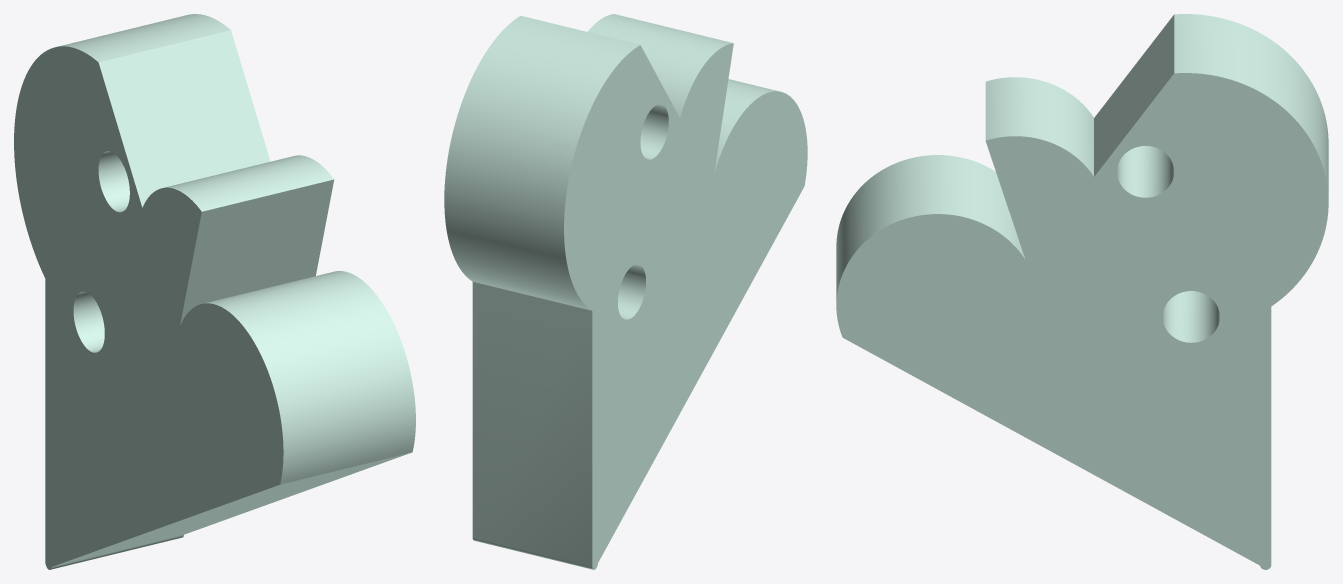
The picture shows the model from 3 angles, left to right: view 1: azimuth 30°, elevation 25°; view 2: azimuth 150°, elevation 25°; view 3: azimuth 270°, elevation 25°; orthographic projection. The views are drawn at different scales.
Parts seen in each view (by area): view 1: Renderer Node; view 2: Renderer Node; view 3: Renderer Node.
Part boxes in pixels (x1=…): Renderer Node: x1=14, y1=14, x2=415, y2=569; Renderer Node: x1=444, y1=14, x2=807, y2=569; Renderer Node: x1=836, y1=14, x2=1328, y2=569.
Size of the model in its own units: 0.0703 by 0.2761 by 0.2478.
